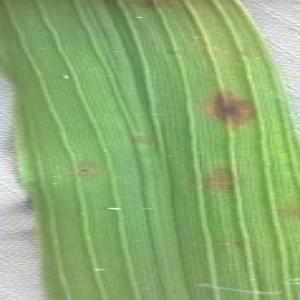0 BrownSpot: (201, 84, 262, 130), (204, 166, 246, 200), (74, 162, 93, 177), (162, 45, 181, 59), (231, 238, 246, 249)
